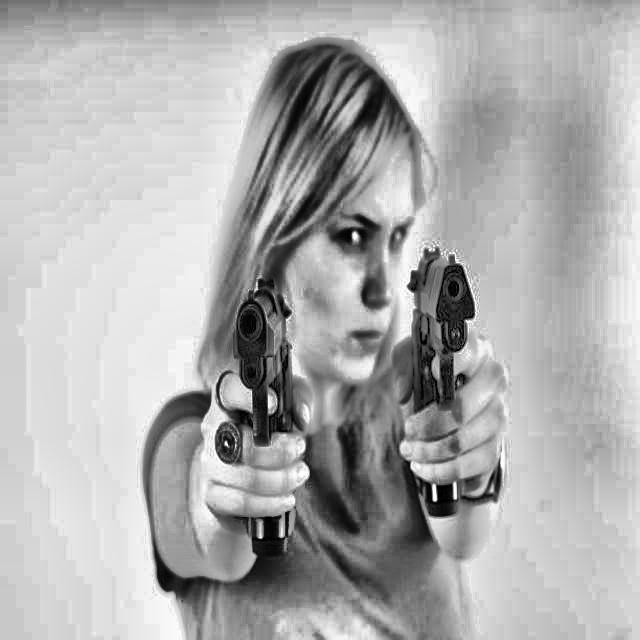pistol: (405, 234, 487, 528)
